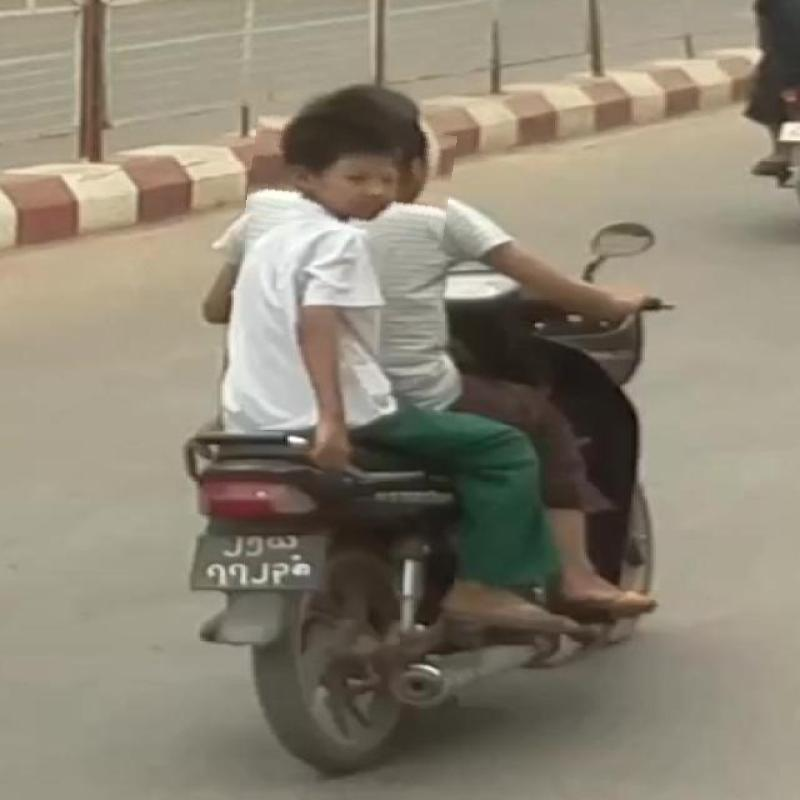nohelmet: (248, 116, 454, 234)
